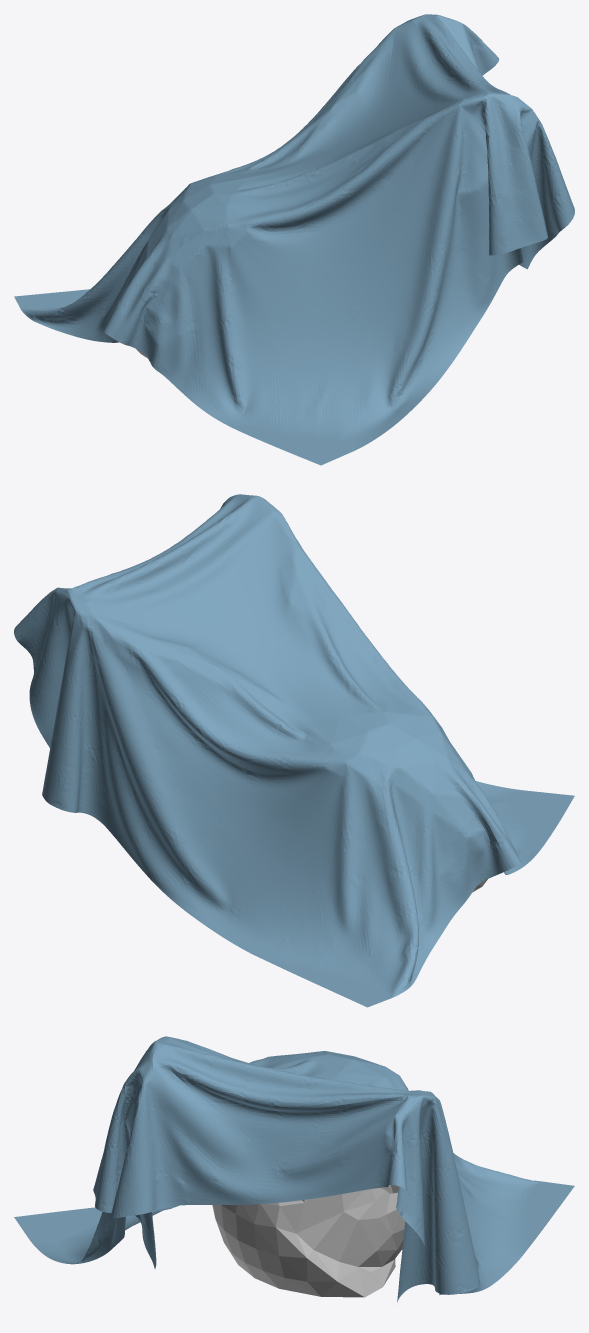
The model's file is level_4.glb.
The picture shows the model from 3 angles, top to bottom: view 1: azimuth 30°, elevation 25°; view 2: azimuth 150°, elevation 25°; view 3: azimuth 270°, elevation 25°; orthographic projection. The views are drawn at different scales.
Visible parts, largest first — view 1: world; view 2: world; view 3: world, object.obj.
Part boxes in pixels (x1=…): world: x1=14, y1=14, x2=574, y2=465; world: x1=14, y1=494, x2=574, y2=1007; world: x1=14, y1=1036, x2=574, y2=1302; object.obj: x1=212, y1=1185, x2=405, y2=1297.
Size of the model in its own units: 0.4905 by 0.292 by 0.4925.
